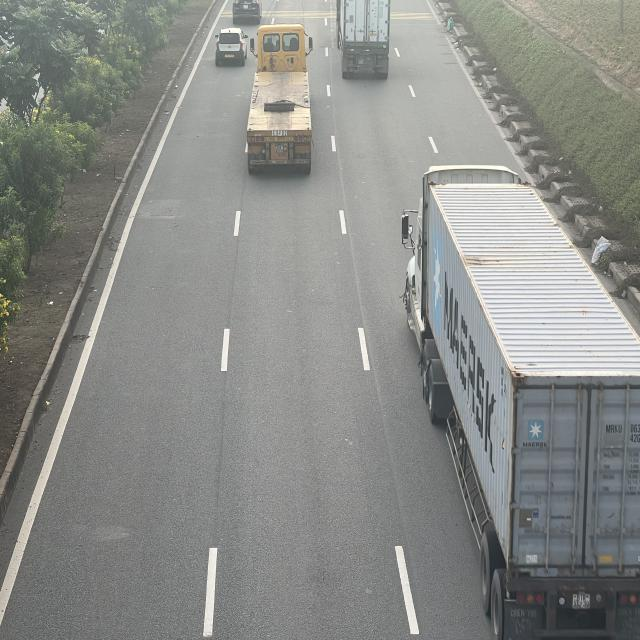car: (214, 29, 247, 68)
container: (404, 159, 640, 634), (246, 20, 314, 174), (338, 1, 392, 80)
